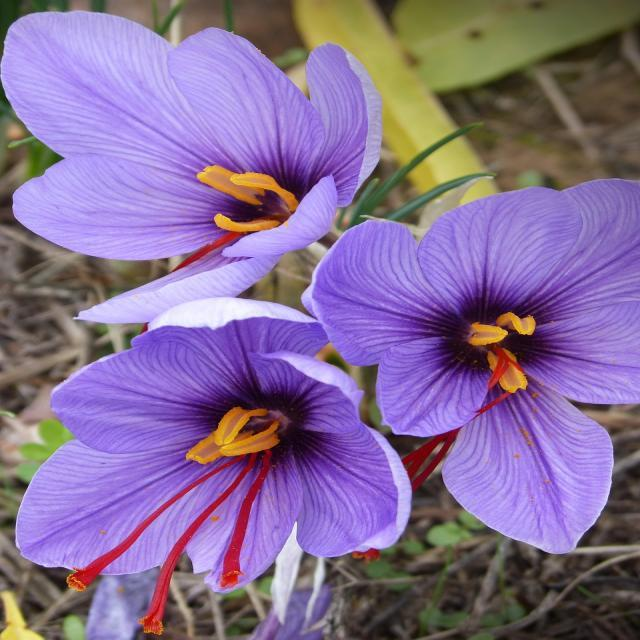Flower: (333, 173, 640, 542), (16, 5, 382, 282), (33, 313, 409, 582)
stigma: (65, 461, 225, 599), (136, 508, 218, 640), (220, 458, 272, 585)
